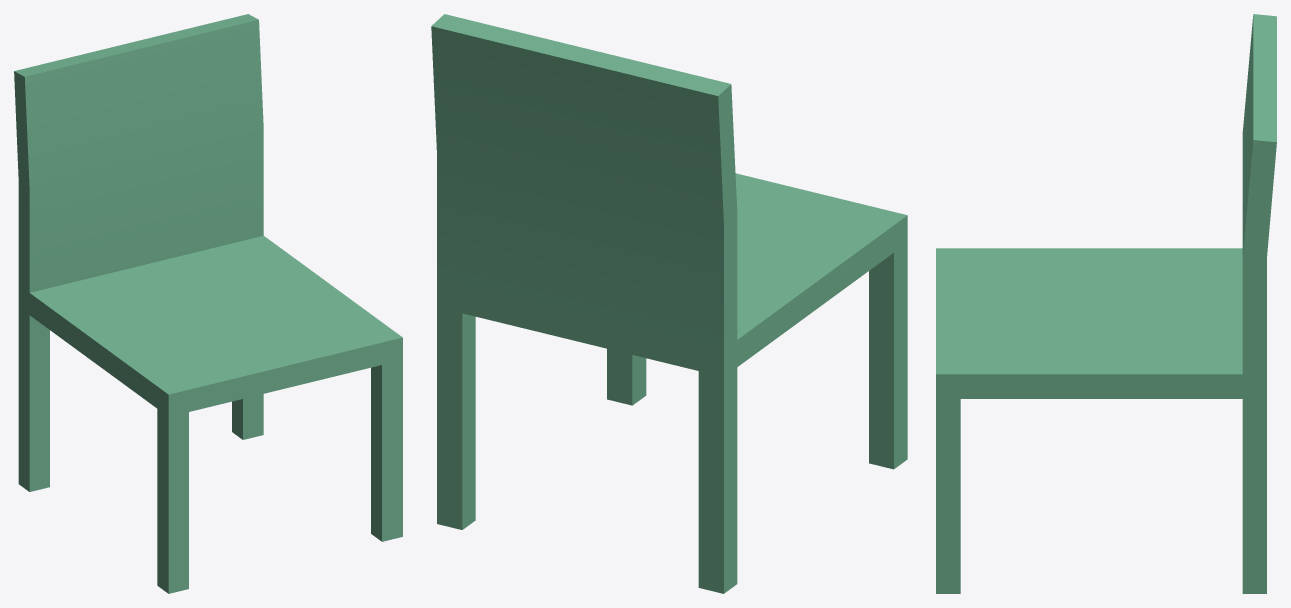
File: Chair_medium_565_627_949.fbx
3 views of the same model, side by side, from view 1: azimuth 30°, elevation 25°; view 2: azimuth 150°, elevation 25°; view 3: azimuth 270°, elevation 25° (orthographic). The views are drawn at different scales.
Parts seen in each view (by area): view 1: Chair_medium_565_627_949; view 2: Chair_medium_565_627_949; view 3: Chair_medium_565_627_949.
Boxes of the visible parts, box(x1,y1,x2,y2) form: Chair_medium_565_627_949: box(14, 14, 402, 593); Chair_medium_565_627_949: box(431, 14, 907, 593); Chair_medium_565_627_949: box(936, 14, 1276, 593).
Bounding box in the file's own units: 56.51 × 94.93 × 64.62.
